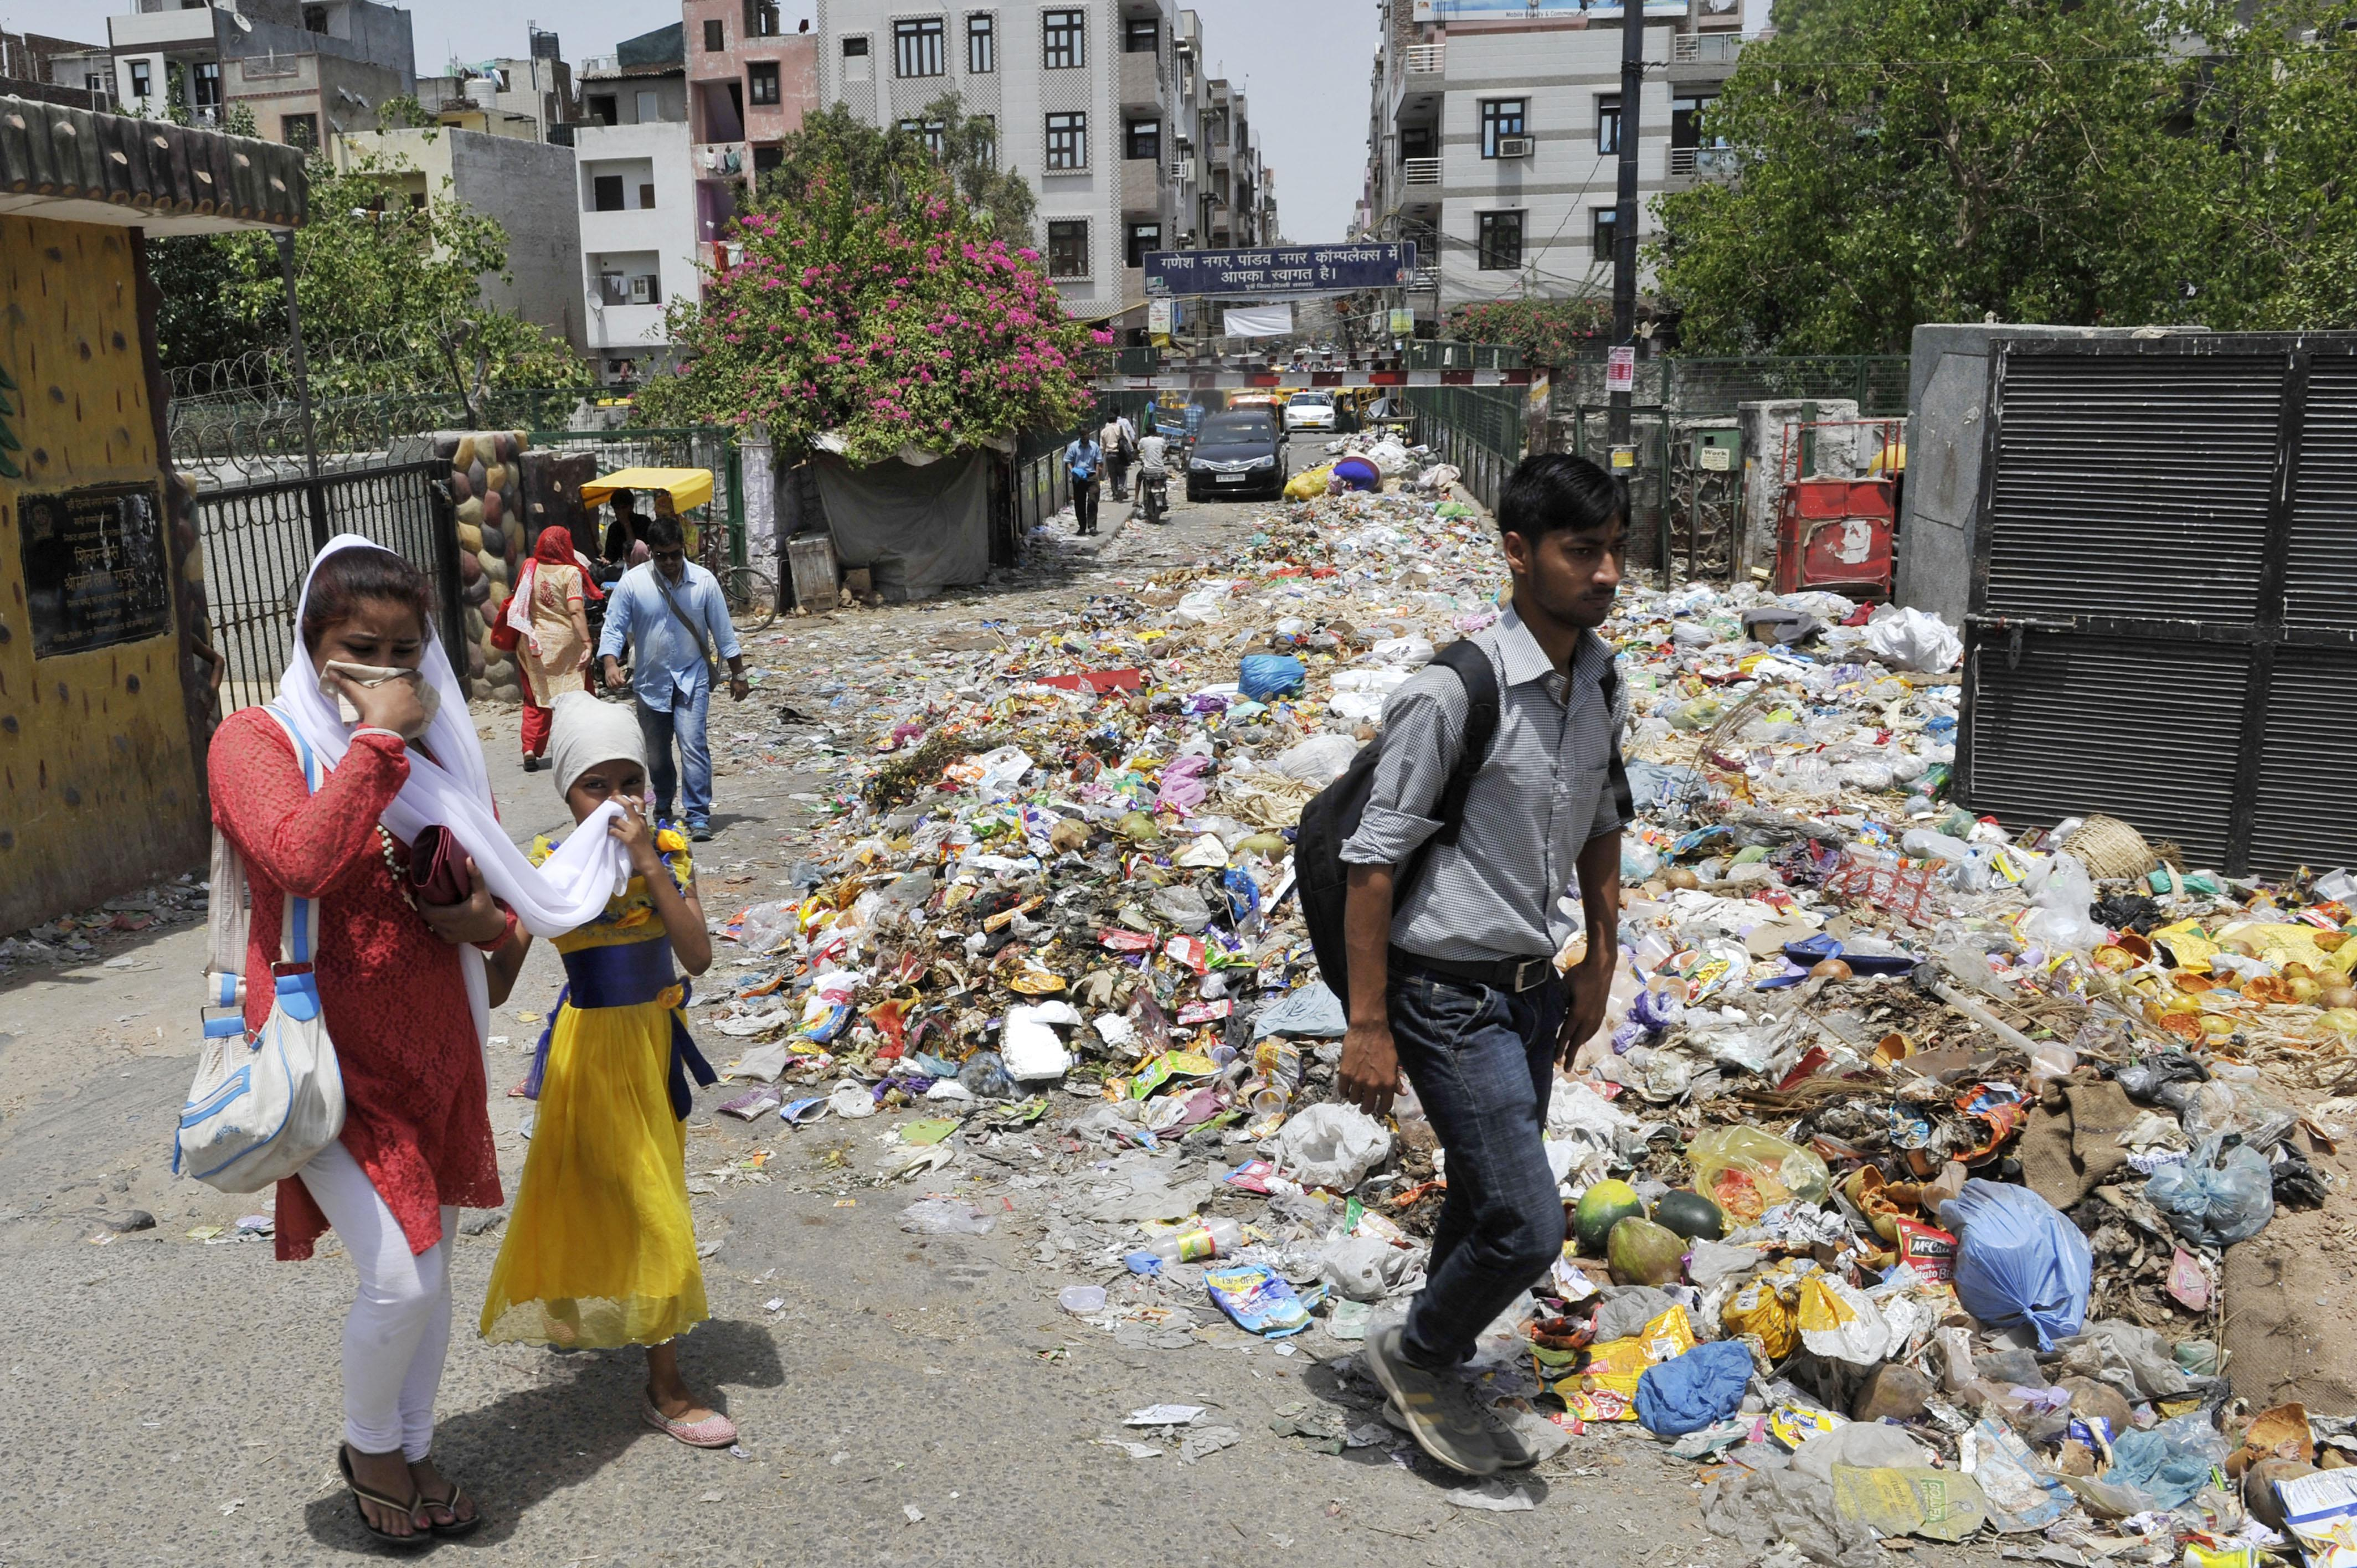Garbage: (1815, 982, 2357, 1428), (854, 919, 1307, 1148), (926, 682, 1281, 952), (1671, 626, 1951, 878), (1704, 639, 1937, 917), (1067, 570, 1375, 709), (1353, 450, 1463, 609)
